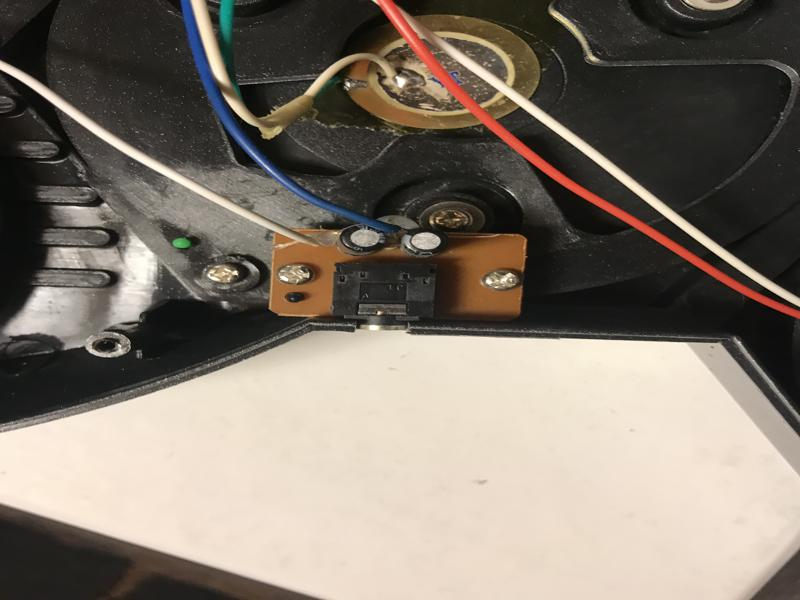Capacitor: (331, 219, 388, 257), (399, 224, 449, 259)
